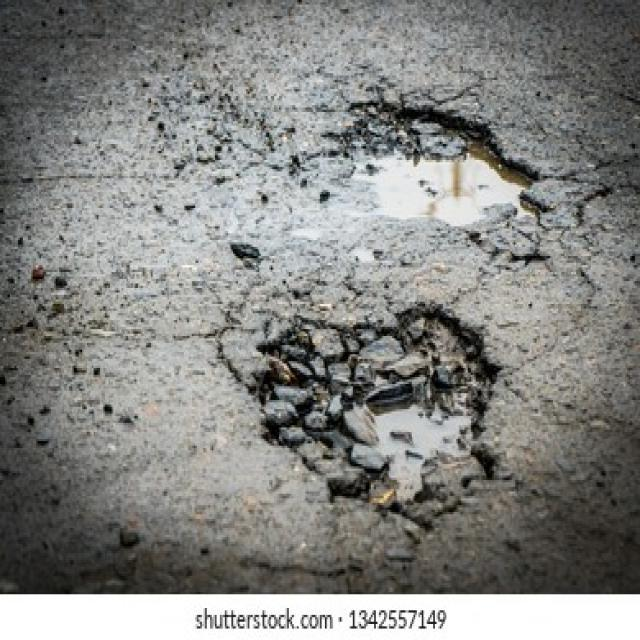Pothole: (243, 299, 504, 512), (328, 91, 555, 240)
